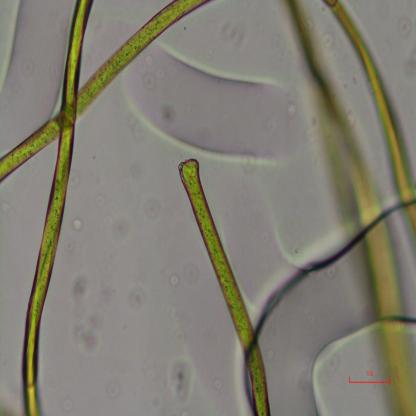Background material: (137, 41, 309, 169), (258, 228, 370, 413)
Microfibre: (283, 1, 416, 415), (0, 0, 211, 181), (21, 0, 92, 415), (180, 160, 272, 414), (327, 1, 416, 240)
